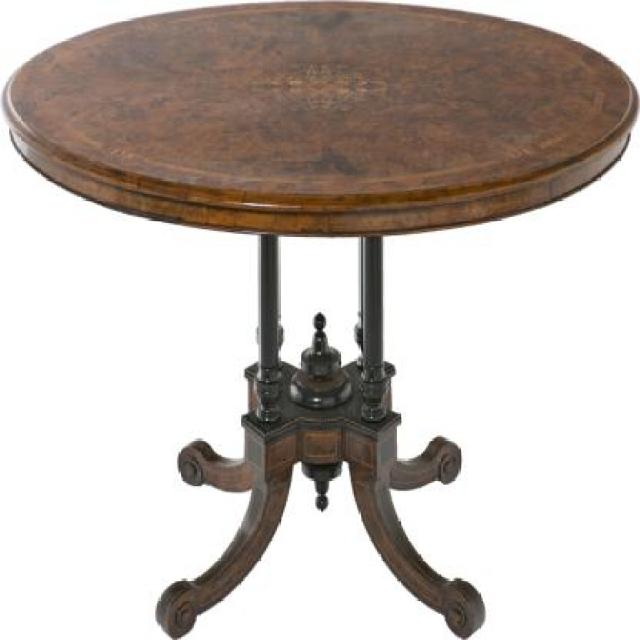table: (4, 11, 639, 640)
